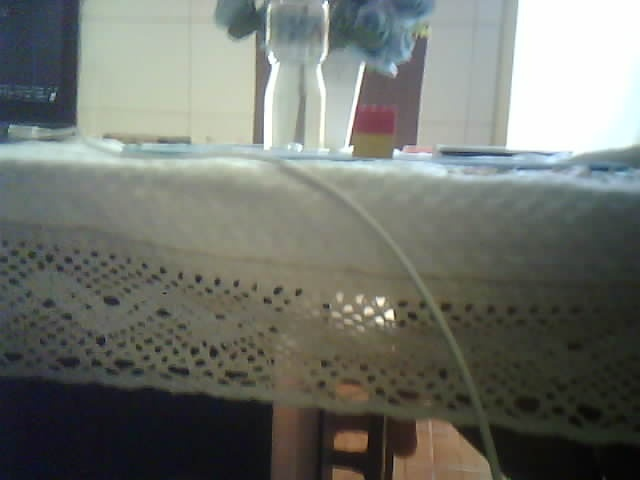lego: (352, 105, 395, 157)
